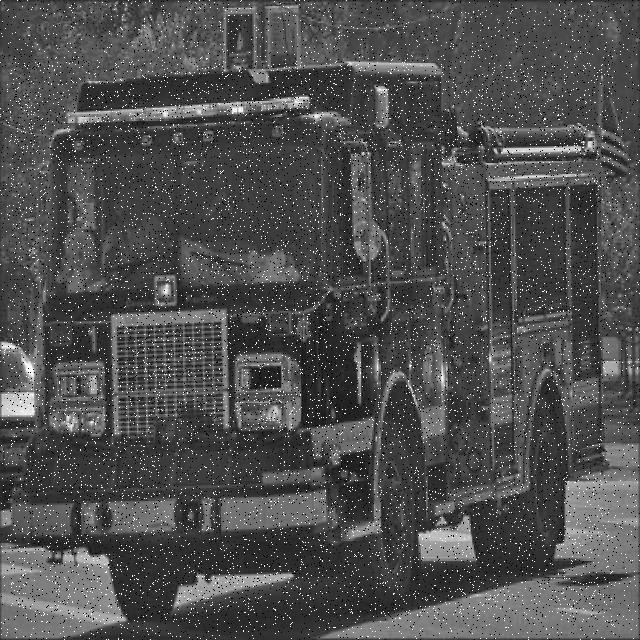Fire Truck: (10, 62, 609, 622)
